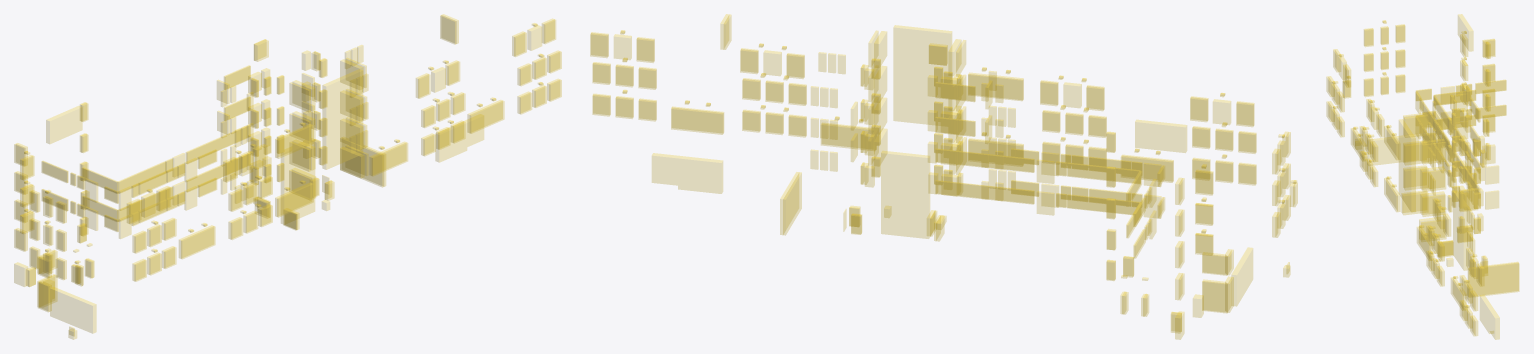
The model's file is c895d5ce-49de-46cc-a52c-981cdec8e874.glb.
3 views of the same model, side by side, from view 1: azimuth 30°, elevation 25°; view 2: azimuth 150°, elevation 25°; view 3: azimuth 270°, elevation 25° (orthographic). The views are drawn at different scales.
Visible parts, largest first — view 1: 11255, 10992, 11220, 10980, 11022, 10961, 11259, 11275, 11226, 11242, 11197, 11205 (+16 smaller); view 2: 11255, 10980, 10961, 11022, 11205, 11259, 11275, 11197, 11226, 11216, 11262, 11207 (+8 smaller); view 3: 11220, 11255, 10980, 10992, 10961, 11163, 11162, 11182, 11059, 11029, 11232, 11269 (+56 smaller).
Boxes of the visible parts, x1,y1,x2,y2 form: 11255: (322, 69, 362, 169); 10992: (50, 287, 96, 333); 11220: (340, 137, 385, 187); 10980: (281, 139, 314, 224); 11022: (46, 106, 82, 143); 10961: (435, 119, 483, 162); 11259: (186, 125, 250, 163); 11275: (275, 124, 313, 158); 11226: (369, 142, 407, 175); 11242: (275, 183, 313, 217); 11197: (467, 100, 504, 133); 11205: (186, 153, 250, 191); 11255: (893, 25, 951, 124); 10980: (881, 151, 929, 238); 10961: (652, 153, 722, 193); 11022: (1135, 120, 1186, 152); 11205: (935, 180, 1034, 204); 11259: (935, 148, 1034, 172); 11275: (968, 73, 1023, 100); 11197: (671, 107, 723, 134); 11226: (821, 123, 876, 149); 11216: (1121, 155, 1173, 182); 11262: (1067, 163, 1140, 183); 11207: (1067, 194, 1140, 214); 11220: (1468, 262, 1519, 296); 11255: (1399, 119, 1415, 212); 10980: (1453, 191, 1467, 270); 10992: (1367, 134, 1418, 165); 10961: (1480, 295, 1499, 339); 11163: (1404, 114, 1428, 137); 11162: (1420, 166, 1444, 189); 11182: (1420, 139, 1444, 161); 11059: (1422, 169, 1445, 191); 11029: (1422, 142, 1445, 164); 11232: (1402, 192, 1427, 214); 11269: (1434, 90, 1475, 104).
Size of the model in its own units: 74.59 by 24.36 by 24.62.
